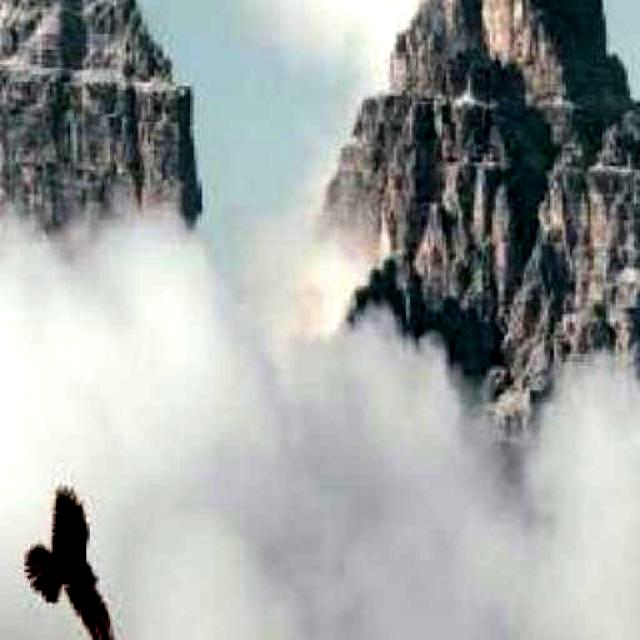airplane: (24, 485, 126, 640)
